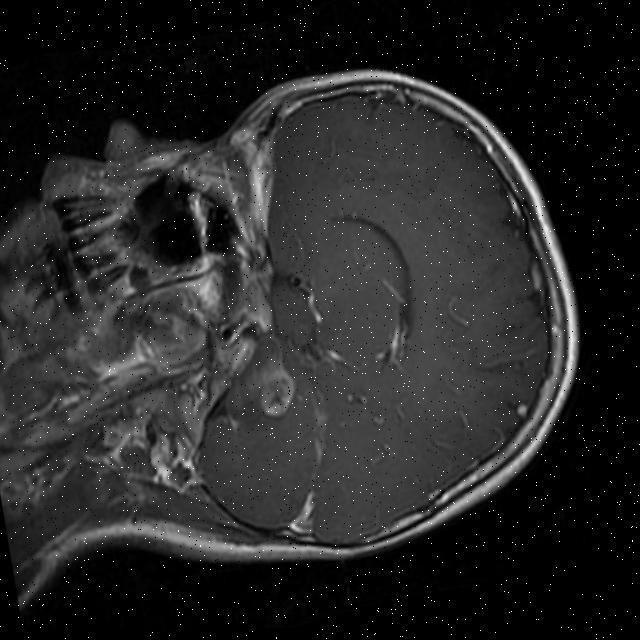Glioma: (249, 367, 303, 425)
